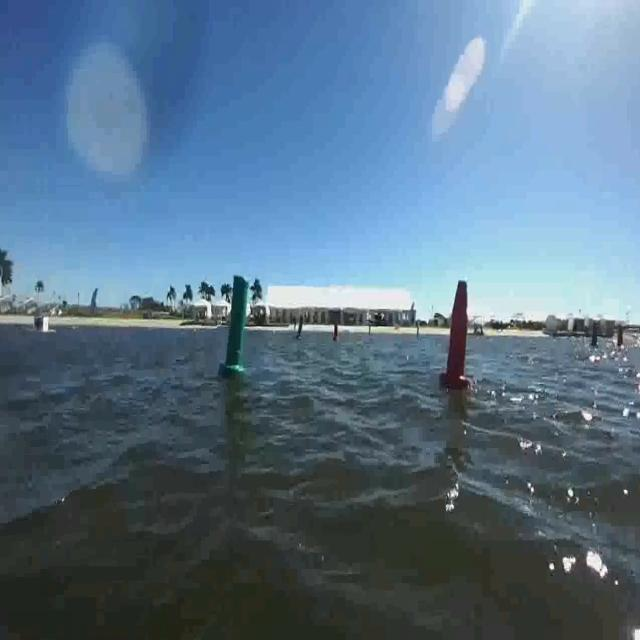green-column-buoy: (222, 279, 250, 377)
red-column-buoy: (442, 277, 474, 394)
